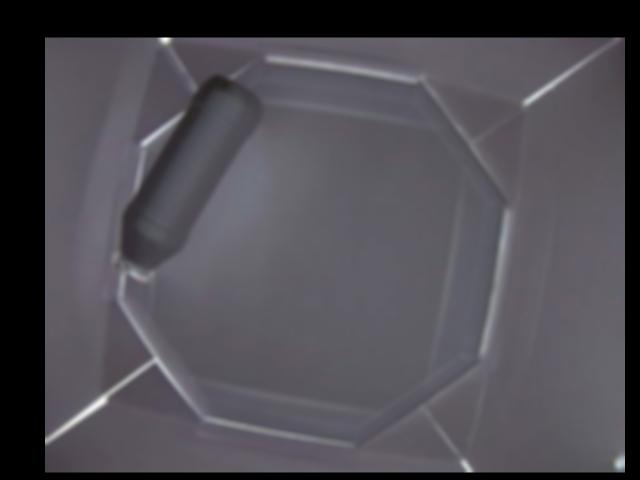Bottle: (112, 74, 264, 286)
